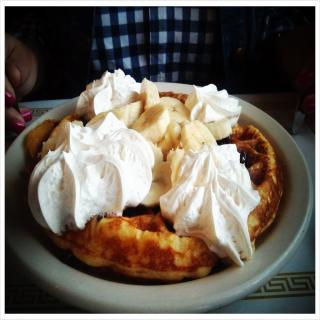Waffle: (41, 90, 283, 281)
